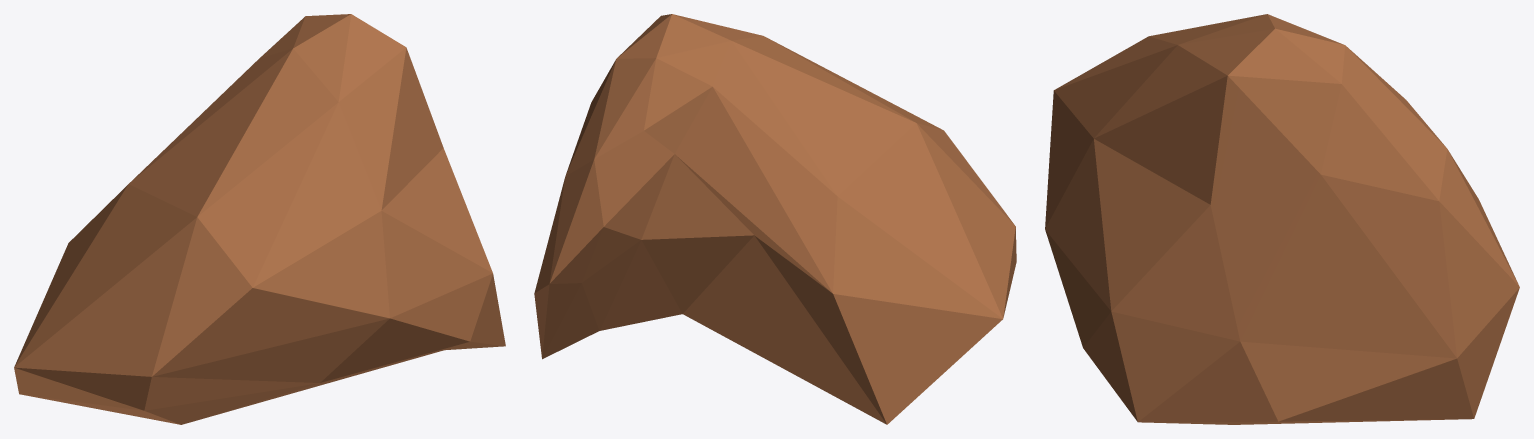
The model's file is Brown_rock3.fbx.
3 renders of one model, left to right at view 1: azimuth 30°, elevation 25°; view 2: azimuth 150°, elevation 25°; view 3: azimuth 270°, elevation 25°, orthographic. The views are drawn at different scales.
Parts seen in each view (by area): view 1: BrownRock3; view 2: BrownRock3; view 3: BrownRock3.
Boxes of the visible parts, bbox=[...] form: BrownRock3: bbox=[14, 14, 505, 424]; BrownRock3: bbox=[534, 14, 1016, 424]; BrownRock3: bbox=[1045, 14, 1519, 424].
Size of the model in its own units: 1422 by 1024 by 1148.
